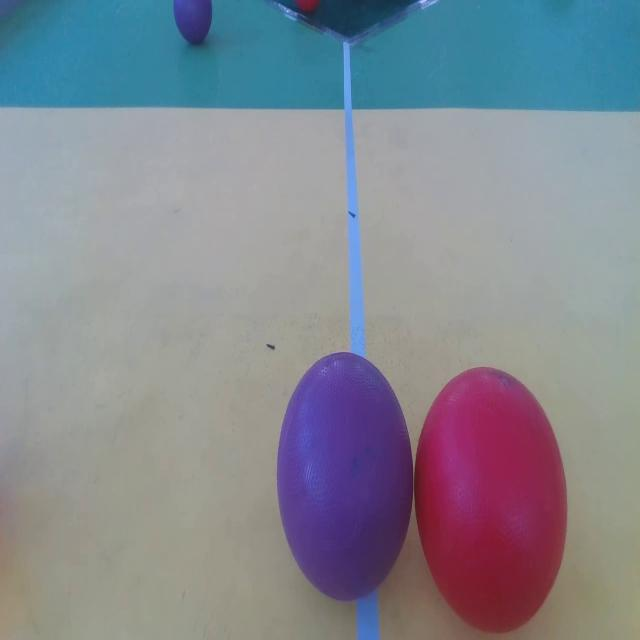invalid: (274, 344, 411, 599), (167, 0, 212, 44)
red: (416, 368, 566, 630)
